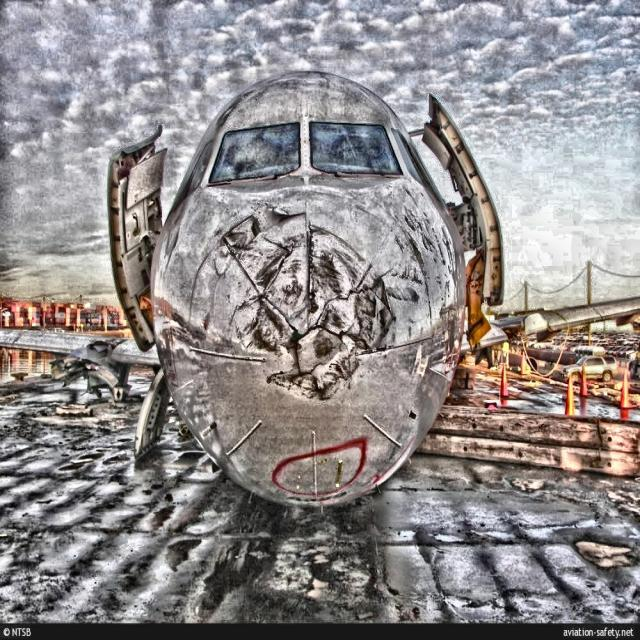crack: (223, 205, 399, 408)
